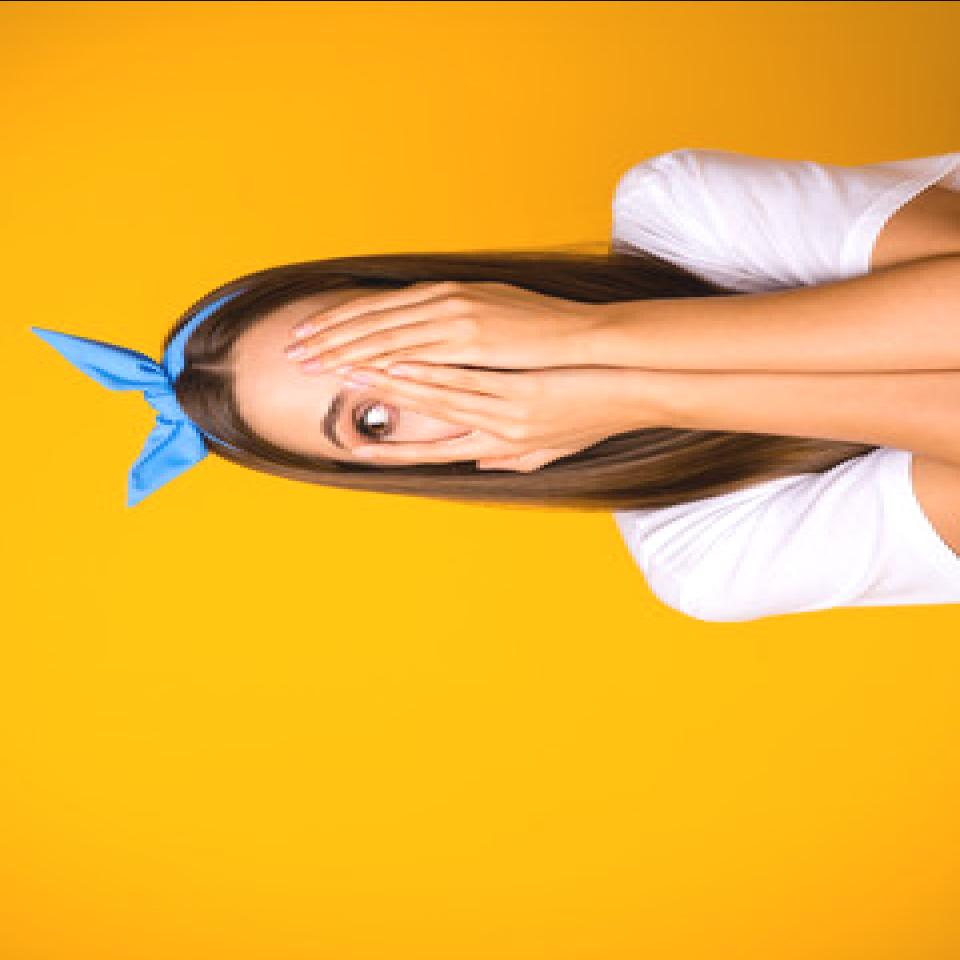Scared: (242, 276, 584, 468)
